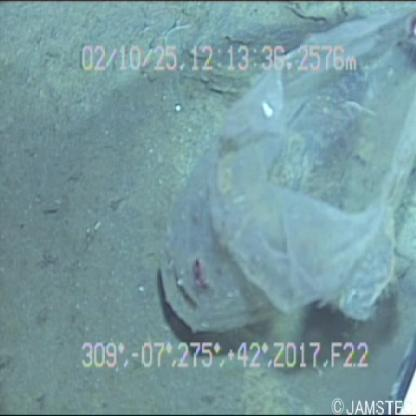Rác: (152, 2, 416, 337)
